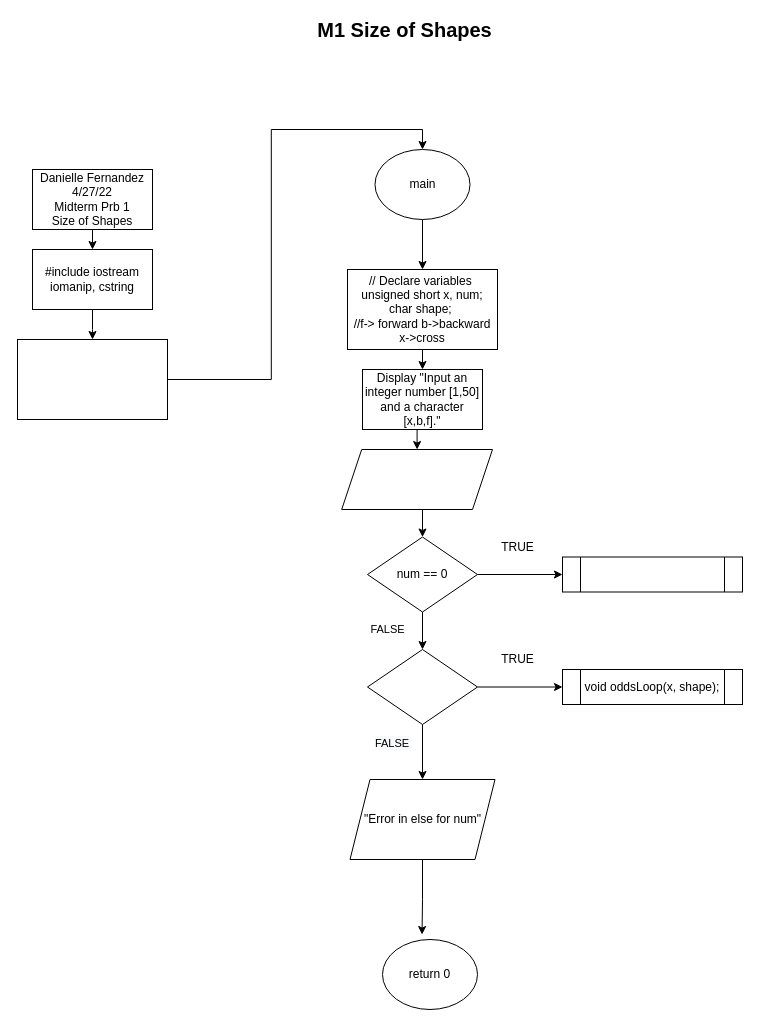
This 760x1027 diagram has some shape labels left out. The centre of each missing label's shape, as x and y in pixels:
"Function Prototypes void oddsLoop(int, char); void evensLoop(int, char);" belongs at (x=92, y=379).
"Input >> x >> shape;" belongs at (x=416, y=479).
"num != 0" belongs at (x=422, y=686).
"void evensLoop(x, shape);" belongs at (x=652, y=574).
